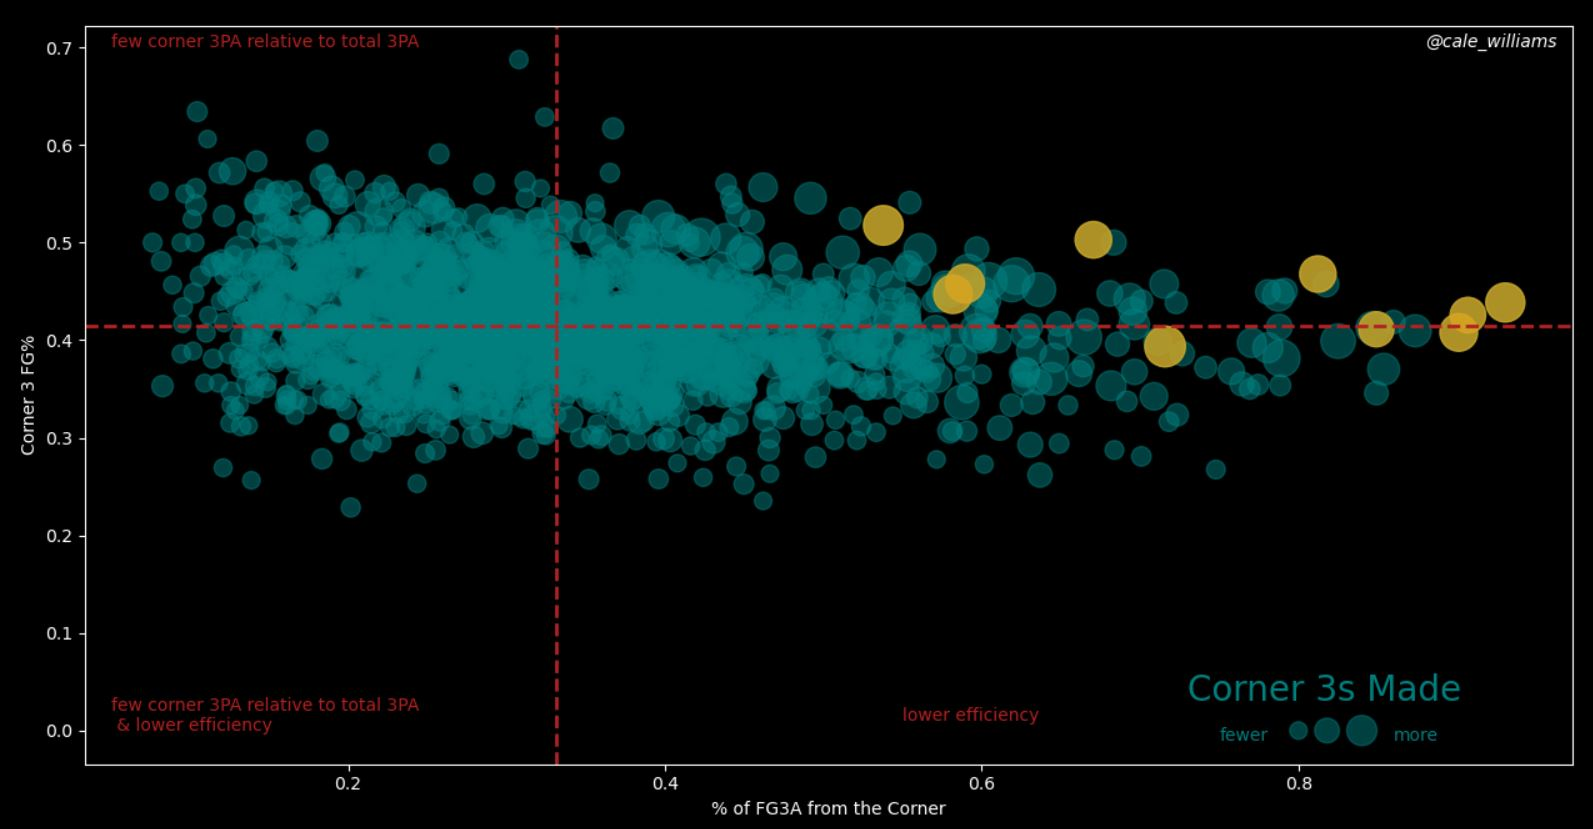

The dashboard page shown, as its layout file describes it:
{"tool":"tableau","page":{"name":"Dashboard 1","canvas":[800,800],"ordinal":0},"visuals":[{"type":"worksheet","title":"Sheet 1","mark":"Automatic","rows":["LOC_Y"],"cols":["LOC_X"],"box":[8,8,624,784]},{"type":"legend","title":"Sheet 1","param":"[federated.03dq9x01td4w500zwbh3a0a7gqdi].[none:SHOT_MADE_FLAG:ok]","box":[632,8,160,72]}]}

Visuals, with their boxes on the page's 800x800 design canvas (x1, y1, x2, y2). These are canvas units, not pixel positions in the 1593x829 screenshot, which may show the page scaled, cropped or inside an application window:
"Sheet 1" worksheet: [left=8, top=8, right=632, bottom=792]
"Sheet 1" legend: [left=632, top=8, right=792, bottom=80]
